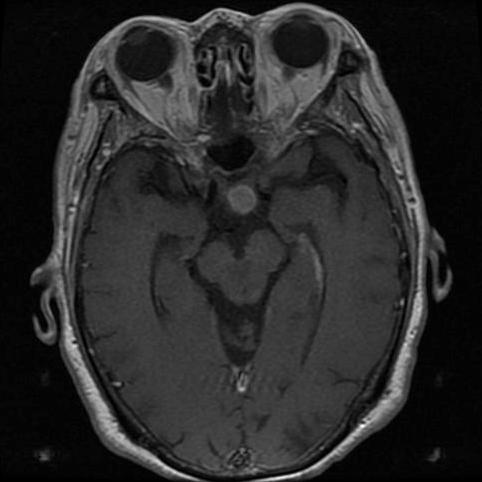Tumour-Pituitary: (230, 188, 262, 216)
